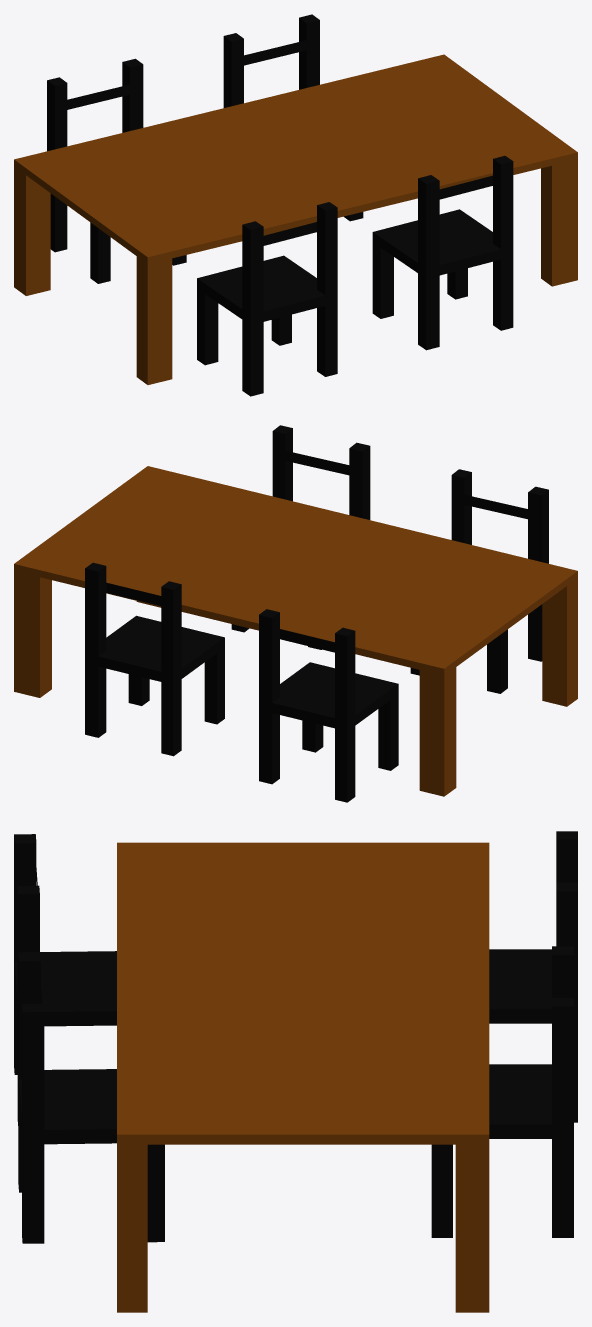
File: tabla.glb
3 renders of one model, top to bottom at view 1: azimuth 30°, elevation 25°; view 2: azimuth 150°, elevation 25°; view 3: azimuth 270°, elevation 25°, orthographic. The views are drawn at different scales.
Visible parts, largest first — view 1: Cube.001, Cube.004, Cube.005, Cube.002, Cube.003; view 2: Cube.001, Cube.003, Cube.002, Cube.005, Cube.004; view 3: Cube.001, Cube.004, Cube.003, Cube.005, Cube.002.
Part boxes in pixels (box(x1,y1,x2,y2)): Cube.001: box(14, 54, 577, 384); Cube.004: box(372, 156, 513, 350); Cube.005: box(197, 202, 337, 396); Cube.002: box(47, 58, 186, 283); Cube.003: box(223, 14, 363, 221); Cube.001: box(14, 466, 577, 796); Cube.003: box(85, 562, 224, 756); Cube.002: box(259, 609, 398, 802); Cube.005: box(410, 469, 548, 693); Cube.004: box(231, 425, 370, 649); Cube.001: box(117, 842, 489, 1312); Cube.004: box(18, 952, 164, 1243); Cube.003: box(431, 946, 573, 1237); Cube.005: box(14, 834, 116, 1125); Cube.002: box(489, 831, 577, 1122).
Size of what is drawn, in the model's own units: 9.71 by 3.69 by 7.93.
